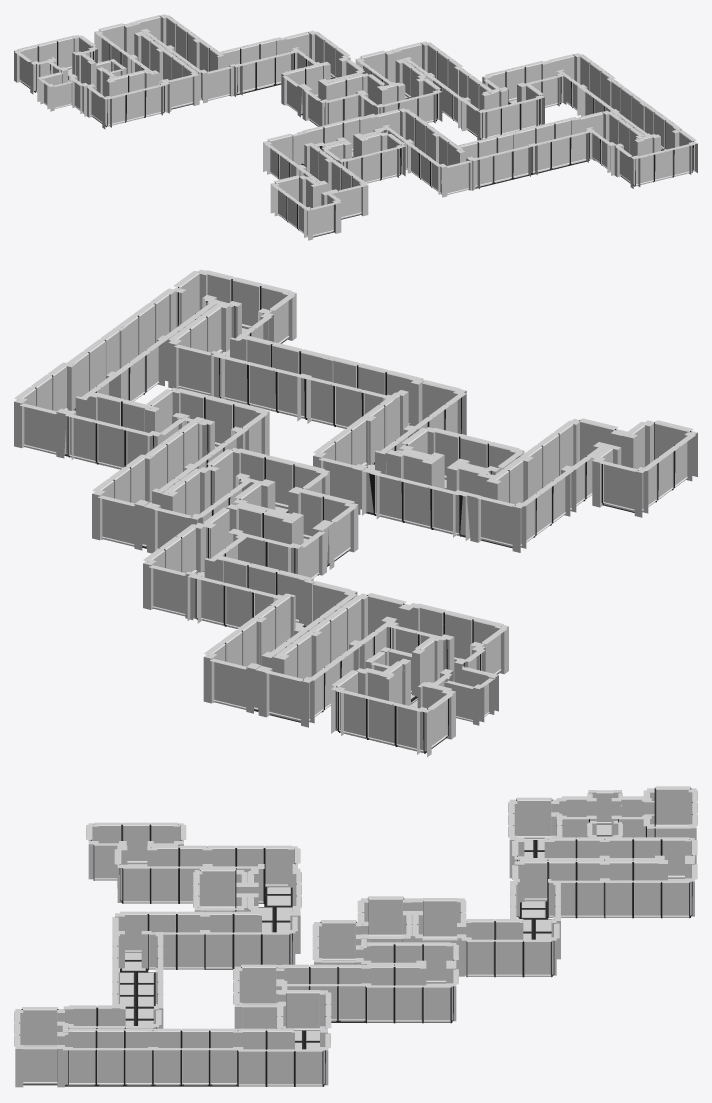
The model's file is Map_01.fbx.
The picture shows the model from 3 angles, top to bottom: view 1: azimuth 30°, elevation 25°; view 2: azimuth 150°, elevation 25°; view 3: azimuth 270°, elevation 25°; orthographic projection. The views are drawn at different scales.
Parts seen in each view (by area): view 1: polySurface607; view 2: polySurface607; view 3: polySurface607.
Boxes of the visible parts, x1,y1,x2,y2 form: polySurface607: (14,14,697,240); polySurface607: (14,269,697,757); polySurface607: (14,786,697,1087).
Bounding box in the file's own units: 63.92 × 4.45 × 69.04.
